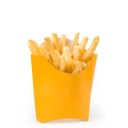frenchfries: (24, 31, 102, 71)
